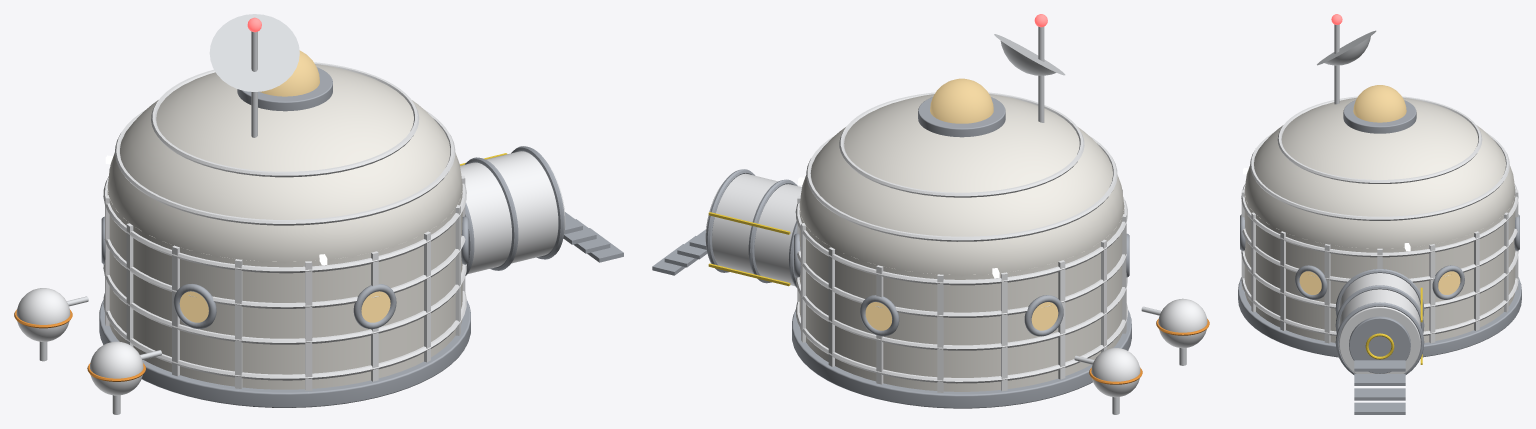
File: habitat.glb
The picture shows the model from 3 angles, left to right: view 1: azimuth 30°, elevation 25°; view 2: azimuth 150°, elevation 25°; view 3: azimuth 270°, elevation 25°; orthographic projection. The views are drawn at different scales.
Visible parts, largest first — view 1: cupula, cuerpo, esclusa, zocalo, antena, Torus.004, Torus.005, Torus.003, Torus.001, Torus, Sphere, Sphere.001 (+17 smaller); view 2: cupula, cuerpo, esclusa, zocalo, Torus.005, Torus.004, cupula_vidrio, Torus.003, Torus.001, Torus, Sphere, Sphere.001 (+17 smaller); view 3: cupula, cuerpo, esclusa, zocalo, compuerta, Torus.005, Torus.004, cupula_vidrio, Torus.003, escotilla, Torus, Torus.001 (+20 smaller).
Boxes of the visible parts, left/top/right/bottom form: cupula: left=107, top=64, right=462, bottom=263; cuerpo: left=107, top=181, right=462, bottom=389; esclusa: left=460, top=151, right=565, bottom=274; zocalo: left=99, top=300, right=470, bottom=407; antena: left=209, top=14, right=299, bottom=91; Torus.004: left=115, top=109, right=455, bottom=225; Torus.005: left=151, top=62, right=419, bottom=177; Torus.003: left=103, top=176, right=466, bottom=273; Torus.001: left=103, top=264, right=466, bottom=344; Torus: left=103, top=291, right=466, bottom=380; Sphere: left=90, top=341, right=143, bottom=395; Sphere.001: left=16, top=288, right=70, bottom=341; cupula: left=799, top=94, right=1124, bottom=276; cuerpo: left=799, top=201, right=1124, bottom=391; esclusa: left=705, top=173, right=801, bottom=285; zocalo: left=792, top=310, right=1131, bottom=408; Torus.005: left=839, top=92, right=1084, bottom=197; Torus.004: left=806, top=136, right=1117, bottom=241; cupula_vidrio: left=930, top=78, right=993, bottom=123; Torus.003: left=795, top=197, right=1127, bottom=285; Torus.001: left=795, top=277, right=1127, bottom=350; Torus: left=795, top=301, right=1127, bottom=383; Sphere: left=1158, top=298, right=1207, bottom=348; Sphere.001: left=1091, top=348, right=1140, bottom=397; cupula: left=1244, top=97, right=1515, bottom=249; cuerpo: left=1244, top=193, right=1515, bottom=342; esclusa: left=1339, top=273, right=1420, bottom=373; zocalo: left=1238, top=277, right=1521, bottom=357; compuerta: left=1349, top=316, right=1410, bottom=373; Torus.005: left=1277, top=96, right=1482, bottom=183; Torus.004: left=1250, top=132, right=1509, bottom=220; cupula_vidrio: left=1353, top=85, right=1406, bottom=122; Torus.003: left=1241, top=184, right=1518, bottom=257; escotilla: left=1343, top=100, right=1416, bottom=133; Torus: left=1241, top=278, right=1518, bottom=335; Torus.001: left=1241, top=251, right=1518, bottom=308.
Size of the model in its own units: 11.31 by 6.91 by 6.6.
